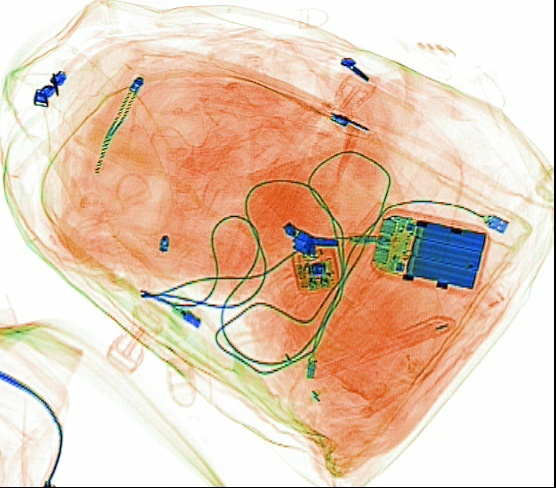powerbank: (369, 206, 492, 296)
